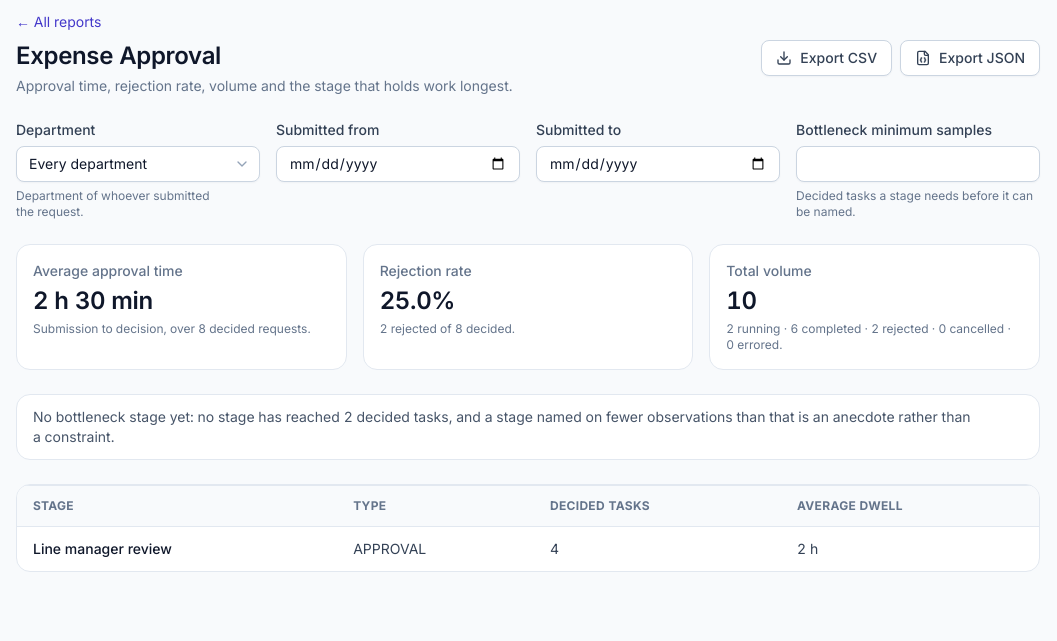
Test: WorkflowPerformanceReport › surfaces a failed export without discarding the report
Expected: the heading "Expense Approval" is shown, [16,41,221,70]
Click the button "Export CSV" at coordinates (827, 58), box [761,40,892,76]
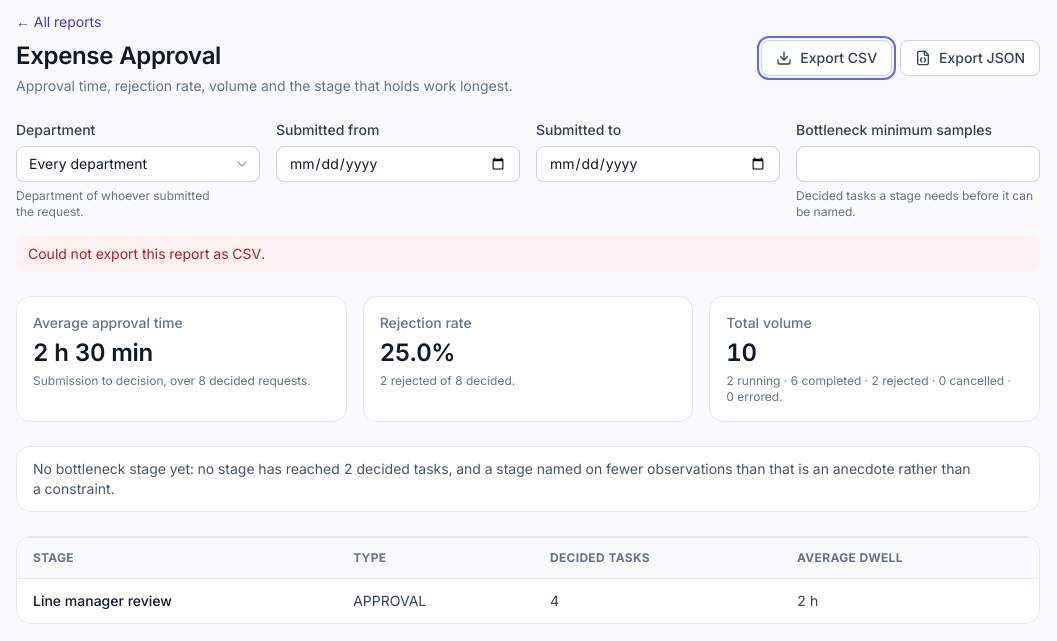
Expected: the text "25.0%" is shown, [380,338,455,367]
Expected: the message reads "Could not export this report as CSV.", [28,245,265,262]
